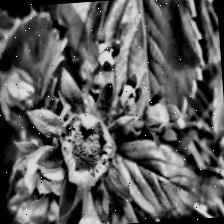Blossom Blight: (58, 113, 119, 184)
